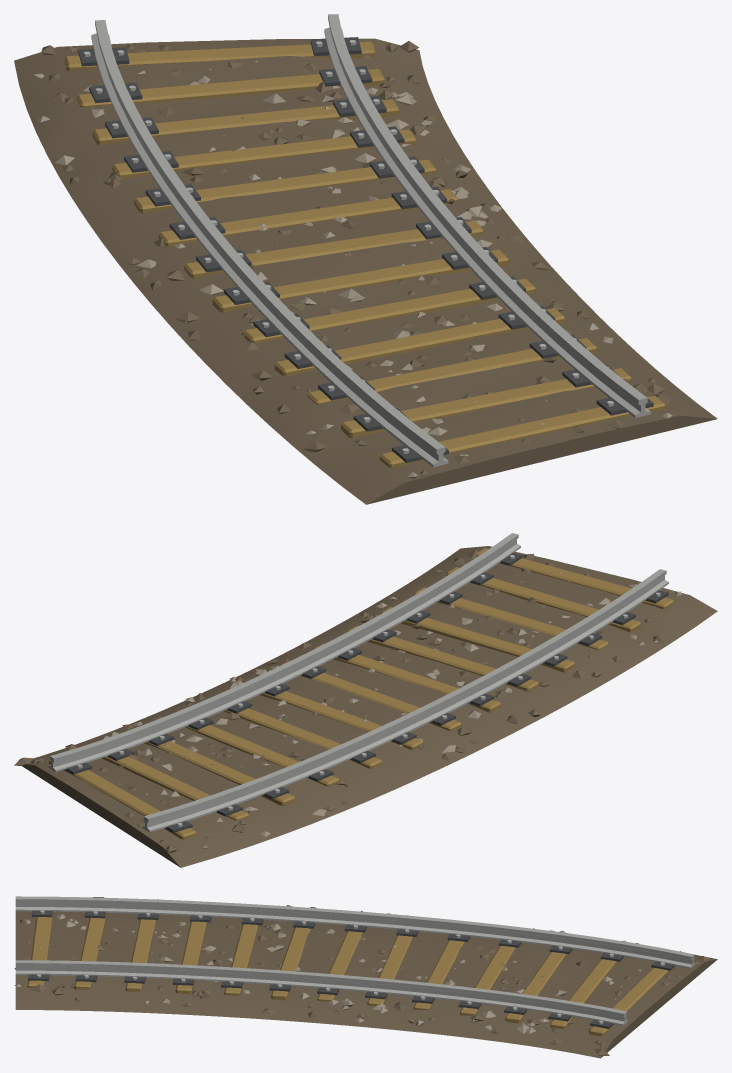
Rendered from curved-rail-a-ne.glb.
3 renders of one model, top to bottom at view 1: azimuth 30°, elevation 25°; view 2: azimuth 150°, elevation 25°; view 3: azimuth 270°, elevation 25°, orthographic. The views are drawn at different scales.
Parts seen in each view (by area): view 1: body; view 2: body; view 3: body.
Part boxes in pixels (left/top/right/bottom): body: left=14, top=14, right=717, bottom=504; body: left=14, top=533, right=717, bottom=867; body: left=14, top=896, right=717, bottom=1058.
Size of the model in its own units: 2.93 by 0.2221 by 5.47.
